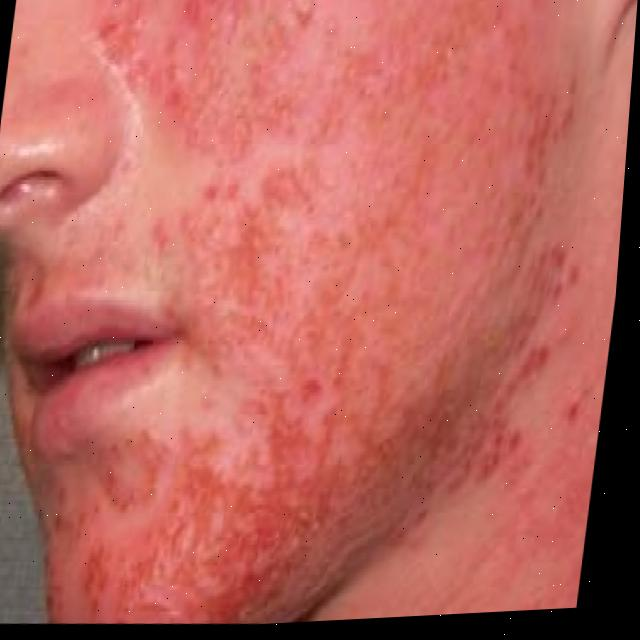Eczema: (82, 0, 624, 633)
